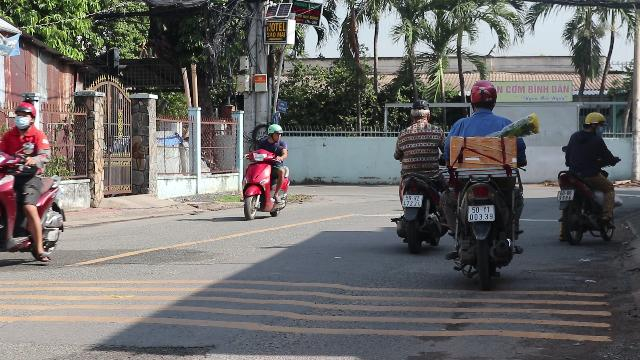helmet: (467, 80, 498, 112), (12, 101, 36, 129), (582, 112, 604, 132), (267, 124, 283, 142)
licenseplate: (468, 206, 494, 221), (403, 194, 423, 208), (557, 190, 573, 200)
motorcyclist: (442, 79, 528, 283), (0, 99, 68, 273), (388, 99, 448, 252), (554, 110, 620, 244), (239, 122, 291, 219)
nohelmet: (410, 100, 430, 122)
